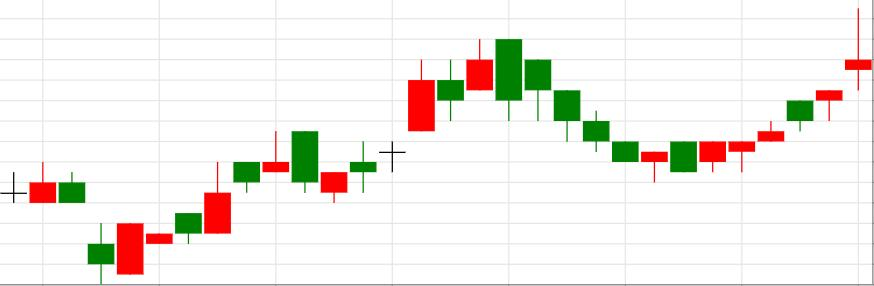bearish_engulfing_fall: (320, 38, 522, 203)
